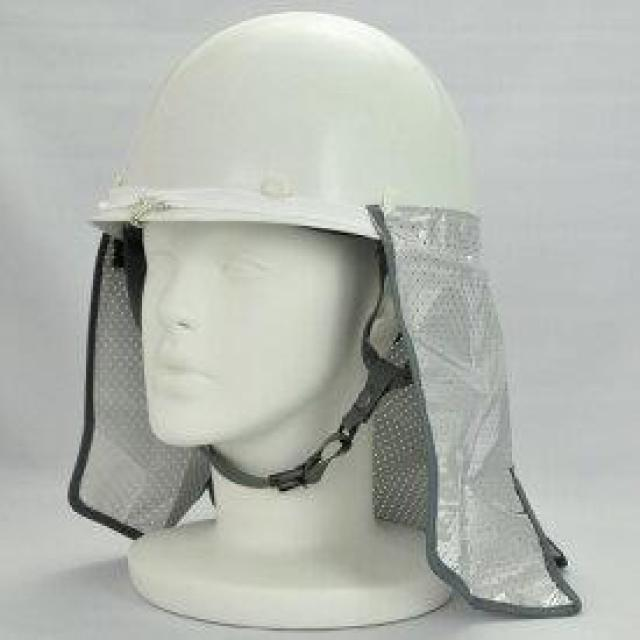helmet: (88, 9, 482, 238)
